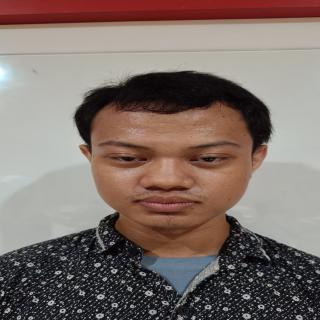Sedih: (78, 95, 258, 229)
